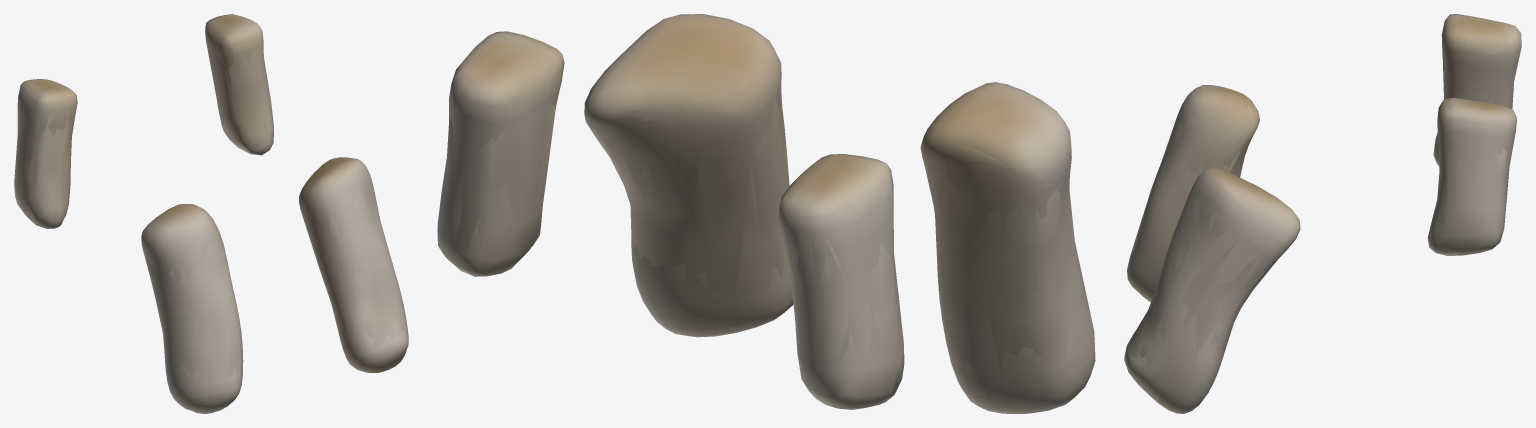
Rendered from BL 1st Phalanx.fbx.
3 renders of one model, left to right at view 1: azimuth 30°, elevation 25°; view 2: azimuth 150°, elevation 25°; view 3: azimuth 270°, elevation 25°, orthographic. The views are drawn at different scales.
Parts seen in each view (by area): view 1: BL 1st Phalanx, BL 1st Phalanx low; view 2: BL 1st Phalanx, BL 1st Phalanx low; view 3: BL 1st Phalanx, BL 1st Phalanx low.
Part boxes in pixels (left/top/right/bottom): BL 1st Phalanx: left=14, top=14, right=408, bottom=413; BL 1st Phalanx low: left=14, top=23, right=407, bottom=413; BL 1st Phalanx: left=437, top=14, right=1095, bottom=413; BL 1st Phalanx low: left=442, top=14, right=1094, bottom=411; BL 1st Phalanx: left=1124, top=14, right=1521, bottom=413; BL 1st Phalanx low: left=1126, top=14, right=1521, bottom=412.
Size of the model in its own units: 3.17 by 3 by 3.66.
